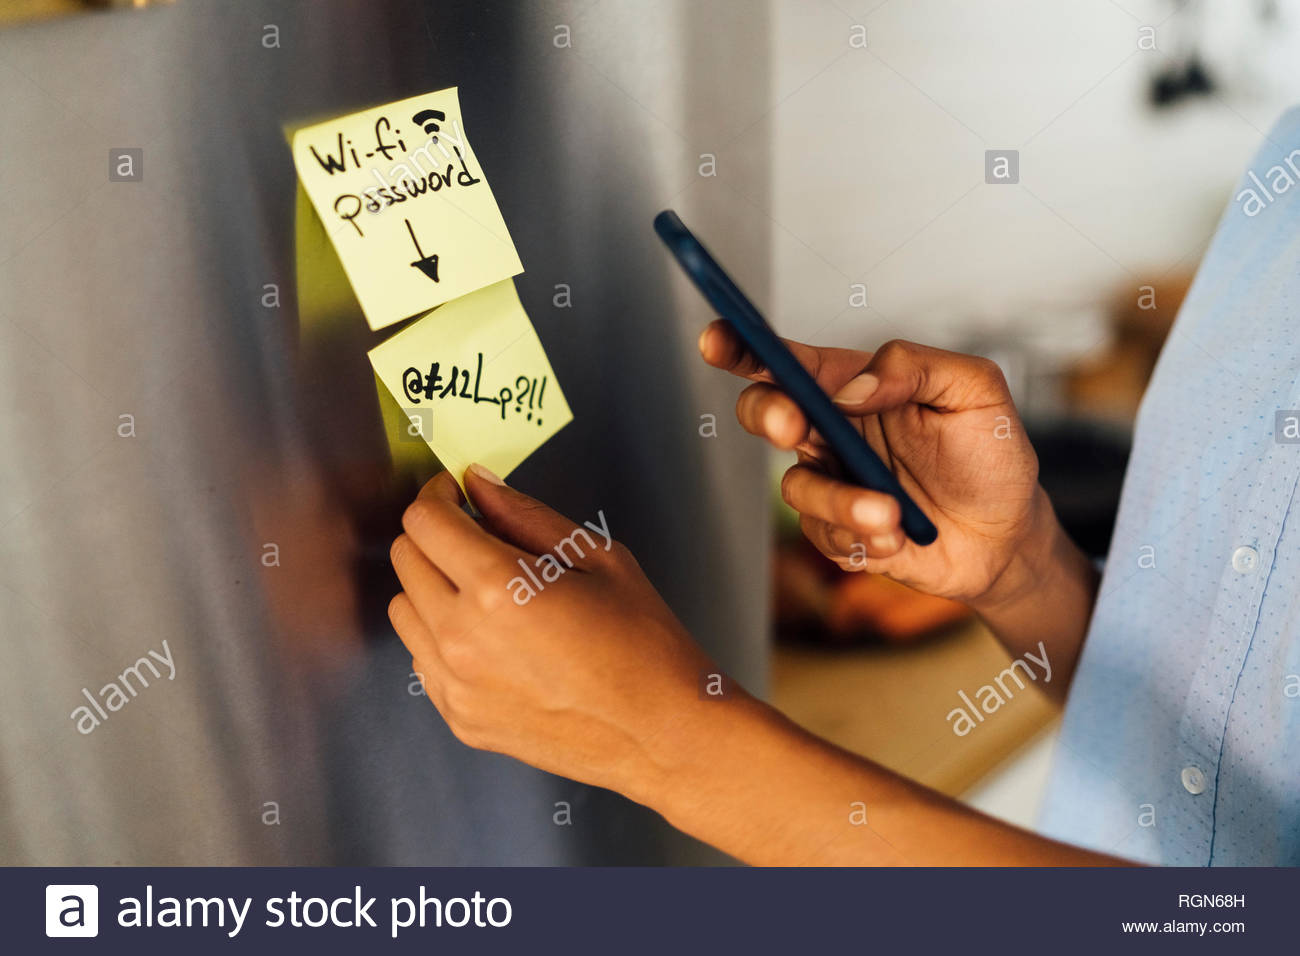Note: (297, 87, 525, 324), (362, 287, 585, 494)
